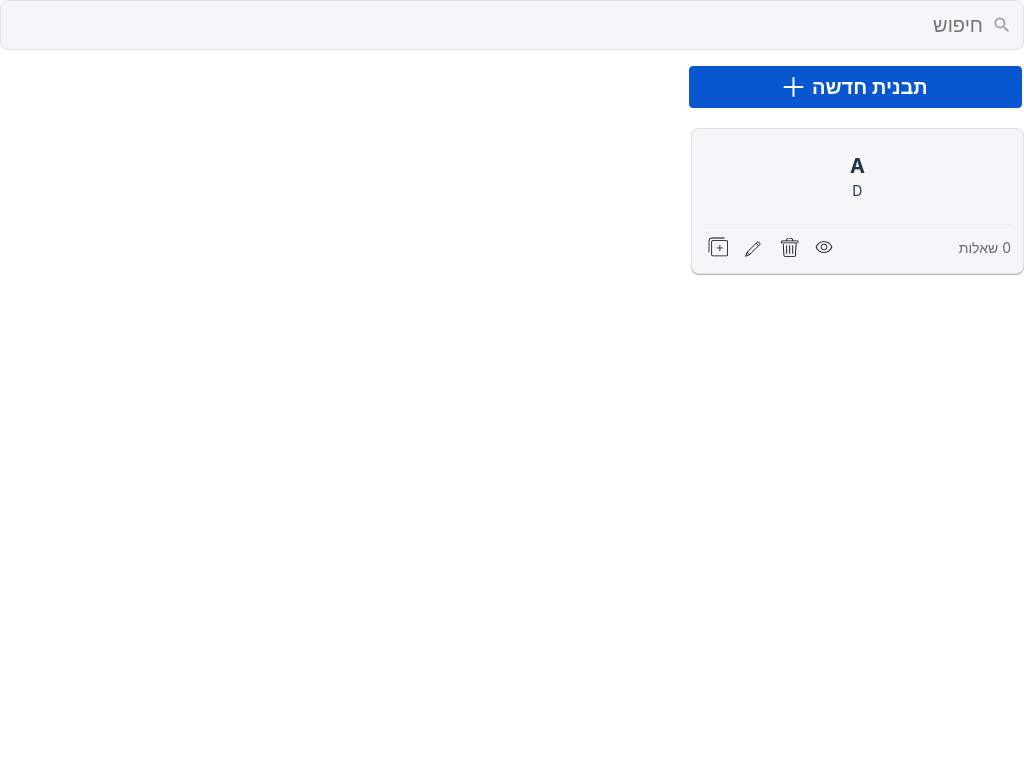
Test: Questions › opens create modal from card click and from plus-one
# Click the card area opens create (click title and let event bubble)
Click the text "A": {"x": 857, "y": 166} [850,156,865,176]
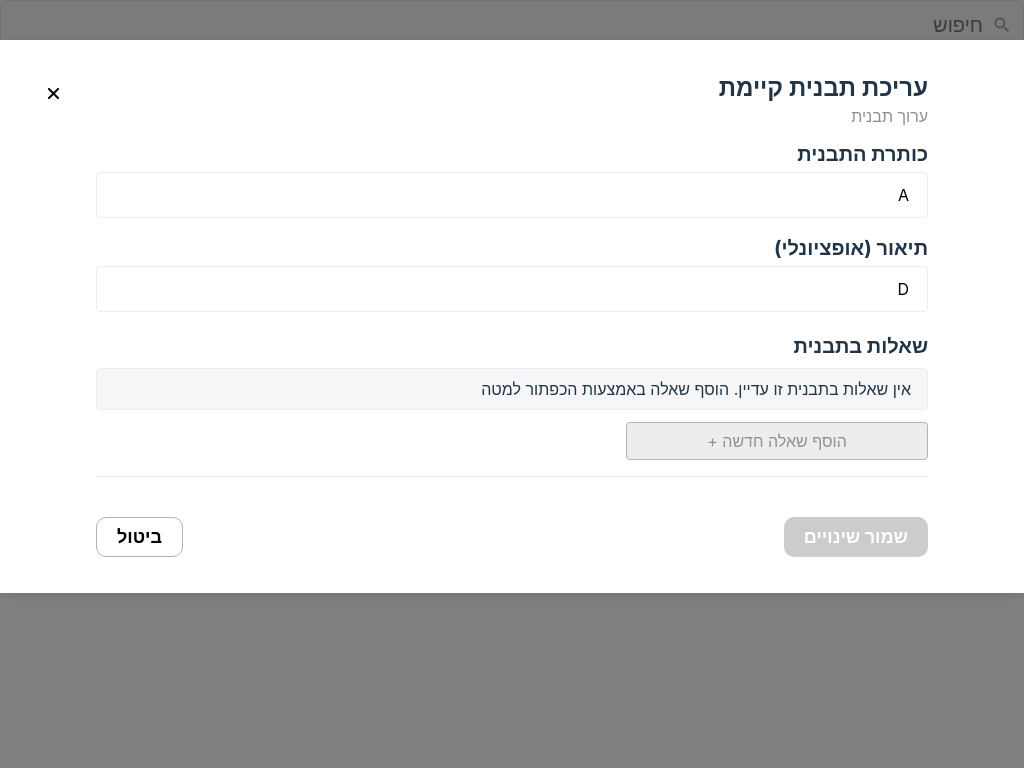
Now the button named "סגור" is shown
# Close and try via plus-one button
Click the button named "סגור": {"x": 54, "y": 94} [40,80,67,107]
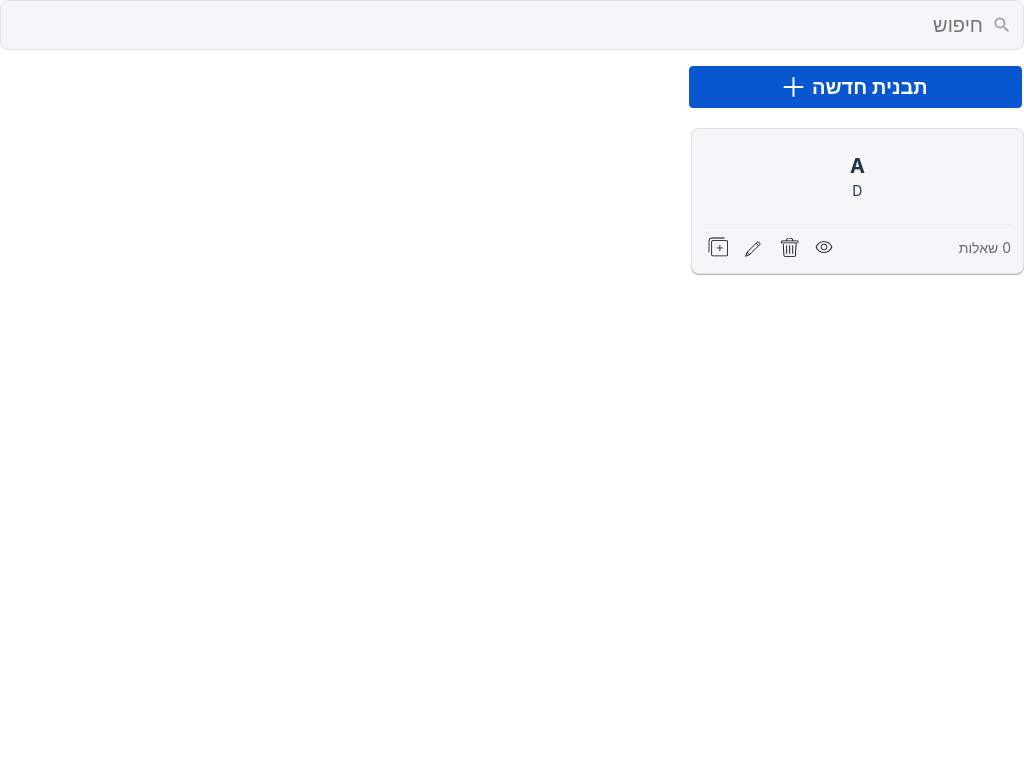
Click the button named "פלוס אחד": {"x": 718, "y": 247} [704,233,732,261]
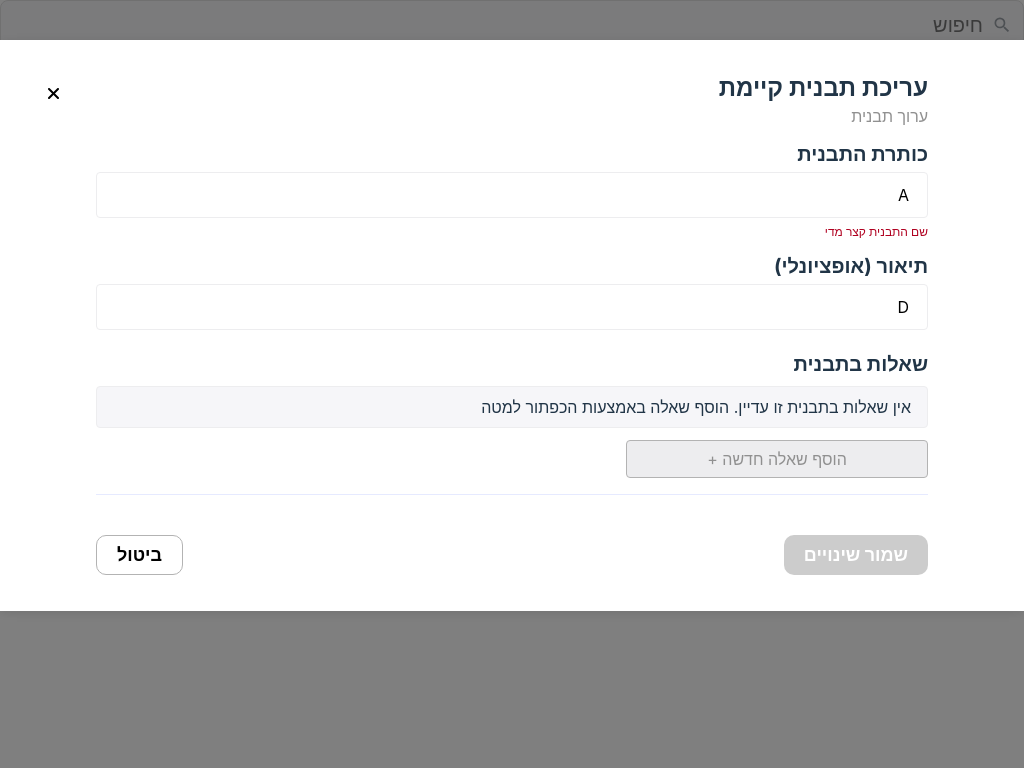
Now the button named "סגור" is shown, box [40,80,67,107]
